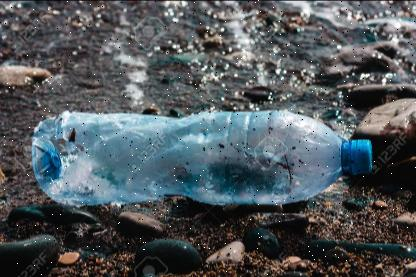Plastic Bottle: (31, 110, 373, 205)
